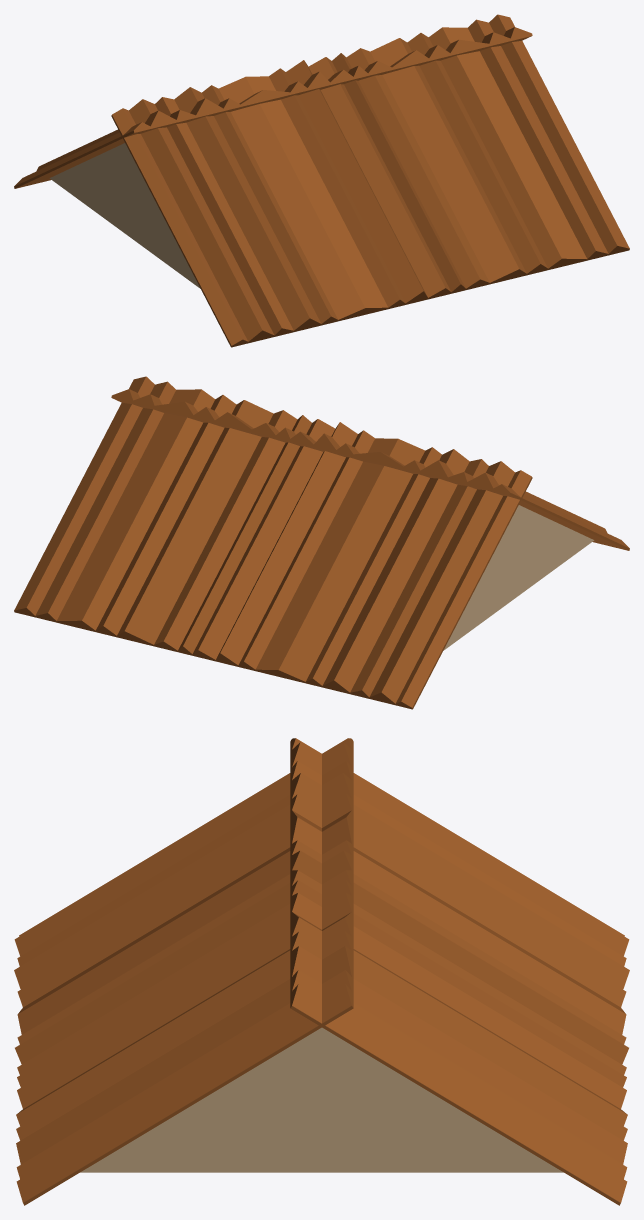
The model's file is Buildings_Wooden_Roof_Shack_01.fbx.
The picture shows the model from 3 angles, top to bottom: view 1: azimuth 30°, elevation 25°; view 2: azimuth 150°, elevation 25°; view 3: azimuth 270°, elevation 25°; orthographic projection. The views are drawn at different scales.
Parts seen in each view (by area): view 1: Model; view 2: Model; view 3: Model.
Boxes of the visible parts, x1=… form: Model: x1=14, y1=14, x2=629, y2=347; Model: x1=14, y1=376, x2=629, y2=709; Model: x1=14, y1=738, x2=629, y2=1205.
Size of the model in its own units: 1401 by 529 by 1366.
